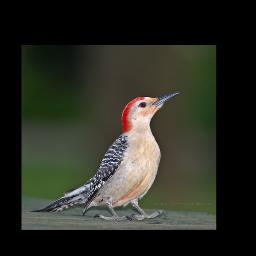Woodpecker: (30, 89, 182, 222)
